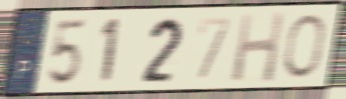1: (97, 15, 124, 86)
2: (137, 12, 187, 87)
5: (45, 17, 92, 87)
7: (194, 14, 233, 83)
H: (229, 9, 288, 85)
O: (281, 12, 327, 81)
